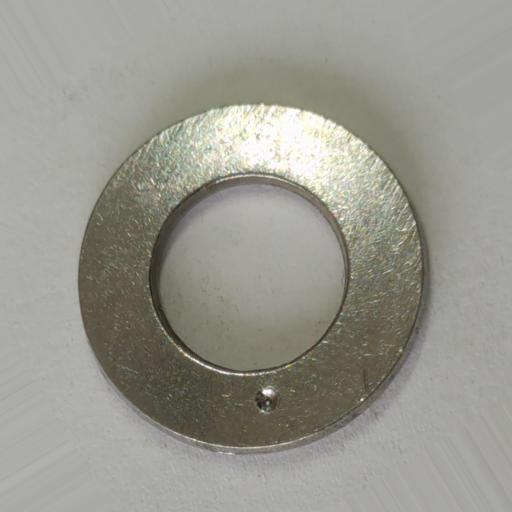circular_cavity: (254, 388, 280, 413)
